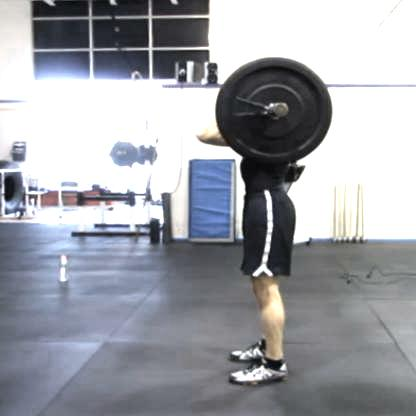Barbell: (268, 101, 290, 119)
